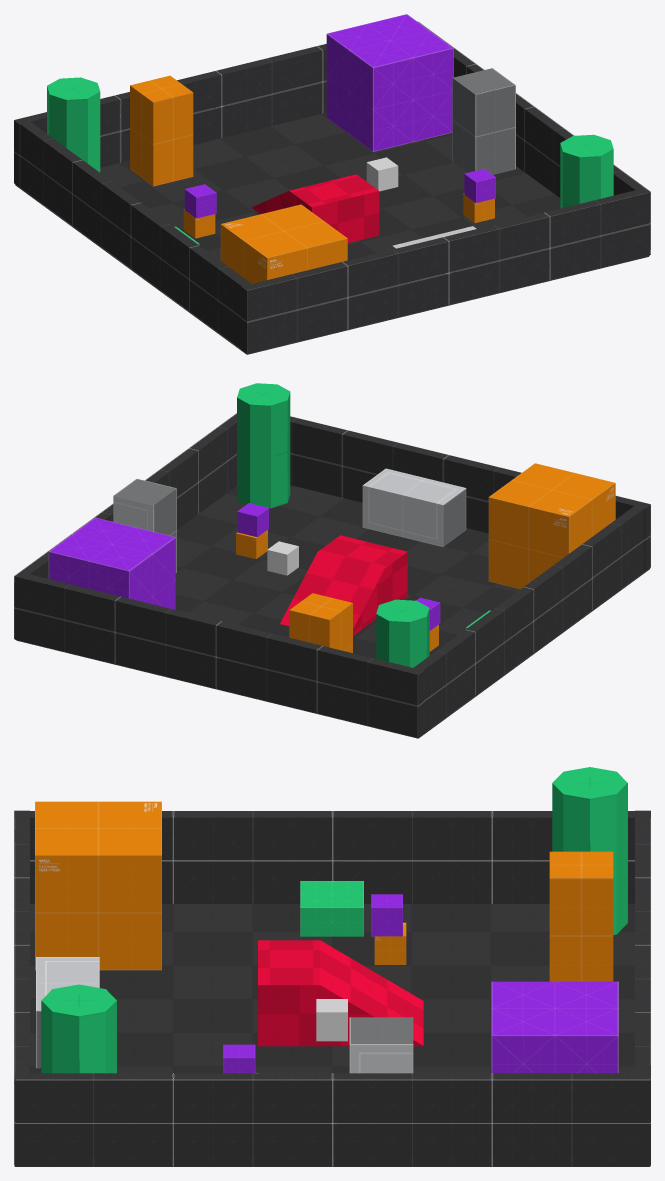
File: TestLevel.glb
3 views of the same model, one above another, from view 1: azimuth 30°, elevation 25°; view 2: azimuth 150°, elevation 25°; view 3: azimuth 270°, elevation 25° (orthographic). The views are drawn at different scales.
Parts seen in each view (by area): view 1: Walls, Props, Floor, Ramp, SpawnNPC; view 2: Walls, Props, Floor, Ramp, SpawnNPC; view 3: Walls, Props, Floor, Ramp, SpawnNPC.
Part boxes in pixels (box(x1,y1,x2,y2)): Walls: box(14, 21, 650, 353); Props: box(47, 14, 613, 283); Floor: box(15, 112, 648, 354); Ramp: box(251, 174, 379, 242); SpawnNPC: box(366, 157, 398, 191); Walls: box(14, 413, 650, 737); Props: box(48, 383, 615, 667); Floor: box(16, 485, 650, 738); Ramp: box(280, 535, 407, 635); SpawnNPC: box(267, 541, 298, 575); Walls: box(14, 810, 650, 1166); Props: box(35, 767, 627, 1073); Floor: box(14, 904, 649, 1166); Ramp: box(258, 940, 423, 1046); SpawnNPC: box(316, 999, 347, 1041).
Size of the model in its own units: 40.16 by 9.78 by 40.11.
Materials: 9 (8 with a texture image).
